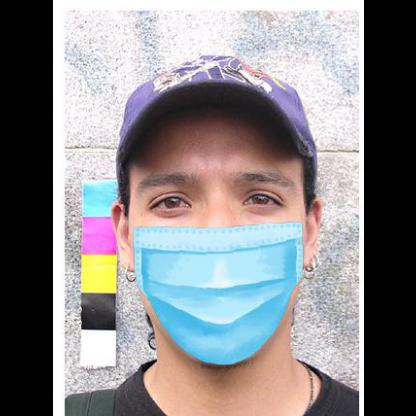Surgical Mask: (110, 99, 324, 371)
